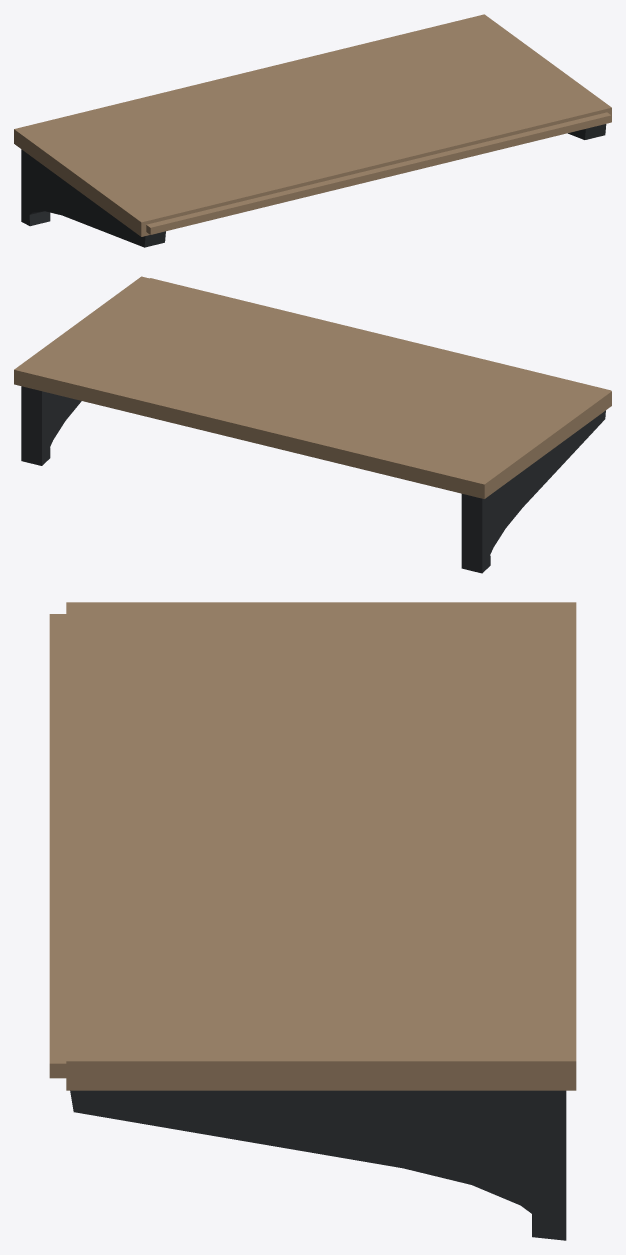
File: SM_shelf_flat_02.fbx
The picture shows the model from 3 angles, top to bottom: view 1: azimuth 30°, elevation 25°; view 2: azimuth 150°, elevation 25°; view 3: azimuth 270°, elevation 25°; orthographic projection. The views are drawn at different scales.
Parts seen in each view (by area): view 1: shelf_flat_02; view 2: shelf_flat_02; view 3: shelf_flat_02.
Boxes of the visible parts, x1,y1,x2,y2 form: shelf_flat_02: (14, 14, 611, 247); shelf_flat_02: (14, 276, 611, 573); shelf_flat_02: (49, 602, 576, 1240).
Size of the model in its own units: 277 by 51.76 by 134.
